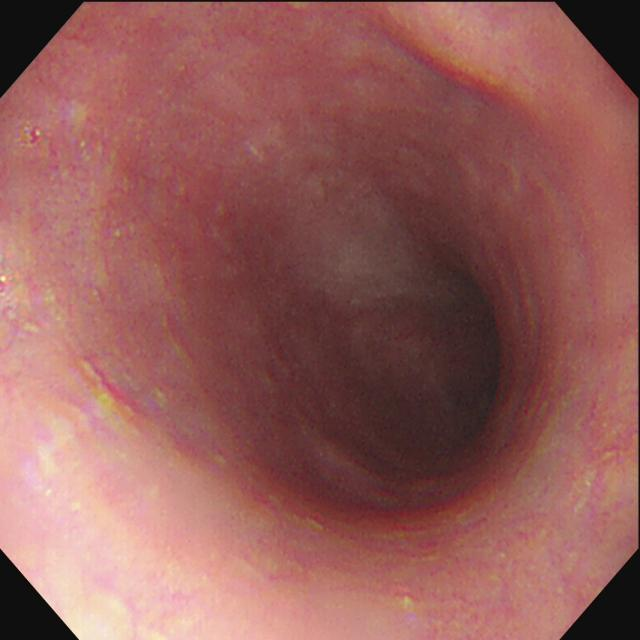E: (438, 271, 522, 466)
J: (294, 181, 440, 307)
